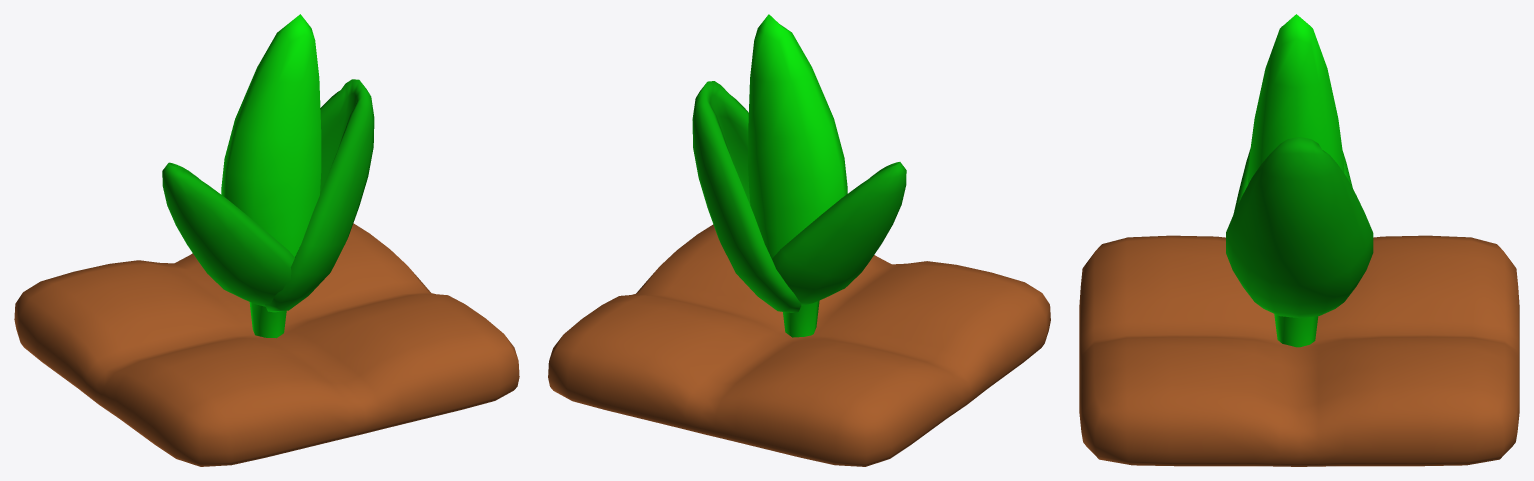
Rendered from Plant_1.fbx.
3 views of the same model, side by side, from view 1: azimuth 30°, elevation 25°; view 2: azimuth 150°, elevation 25°; view 3: azimuth 270°, elevation 25° (orthographic). The views are drawn at different scales.
Parts seen in each view (by area): view 1: Plant_1; view 2: Plant_1; view 3: Plant_1.
Boxes of the visible parts, <box> form: Plant_1: <box>14,14,519,466</box>; Plant_1: <box>548,14,1050,466</box>; Plant_1: <box>1079,14,1519,466</box>.
Bounding box in the file's own units: 84.8 × 81.94 × 84.8.
